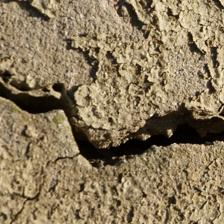Crack: (2, 36, 219, 138)
